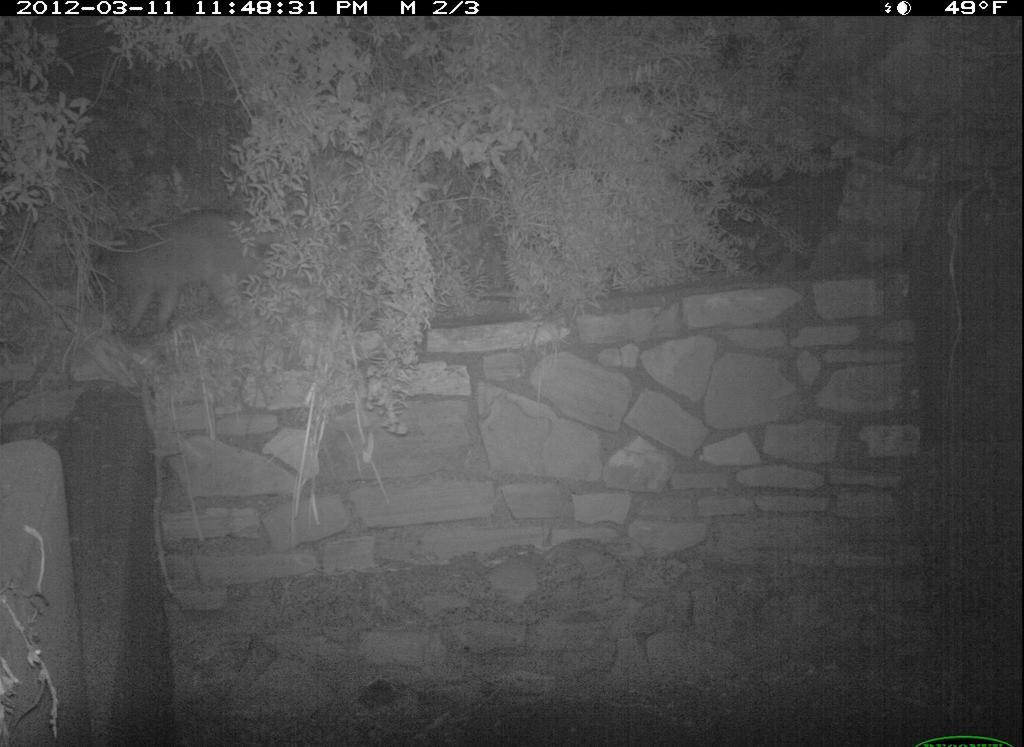raccoon: (80, 198, 344, 345)
